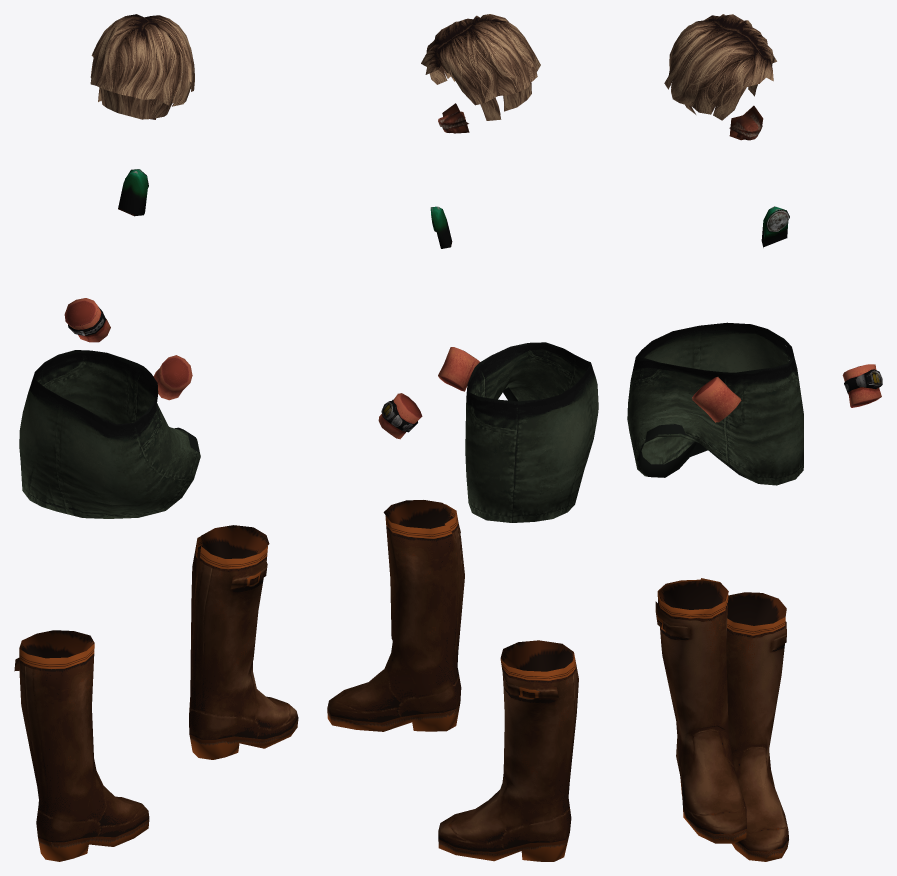
Rendered from Heather_SKIRT.obj.
3 renders of one model, left to right at view 1: azimuth 30°, elevation 25°; view 2: azimuth 150°, elevation 25°; view 3: azimuth 270°, elevation 25°, orthographic. The views are drawn at different scales.
Visible parts, largest first — view 1: Heather_SKIRT; view 2: Heather_SKIRT; view 3: Heather_SKIRT.
Part boxes in pixels (box(x1,y1,x2,y2)): Heather_SKIRT: box(14, 14, 298, 861); Heather_SKIRT: box(327, 14, 598, 861); Heather_SKIRT: box(627, 14, 882, 861).
Bounding box in the file's own units: 4.18 × 12.73 × 3.54.
